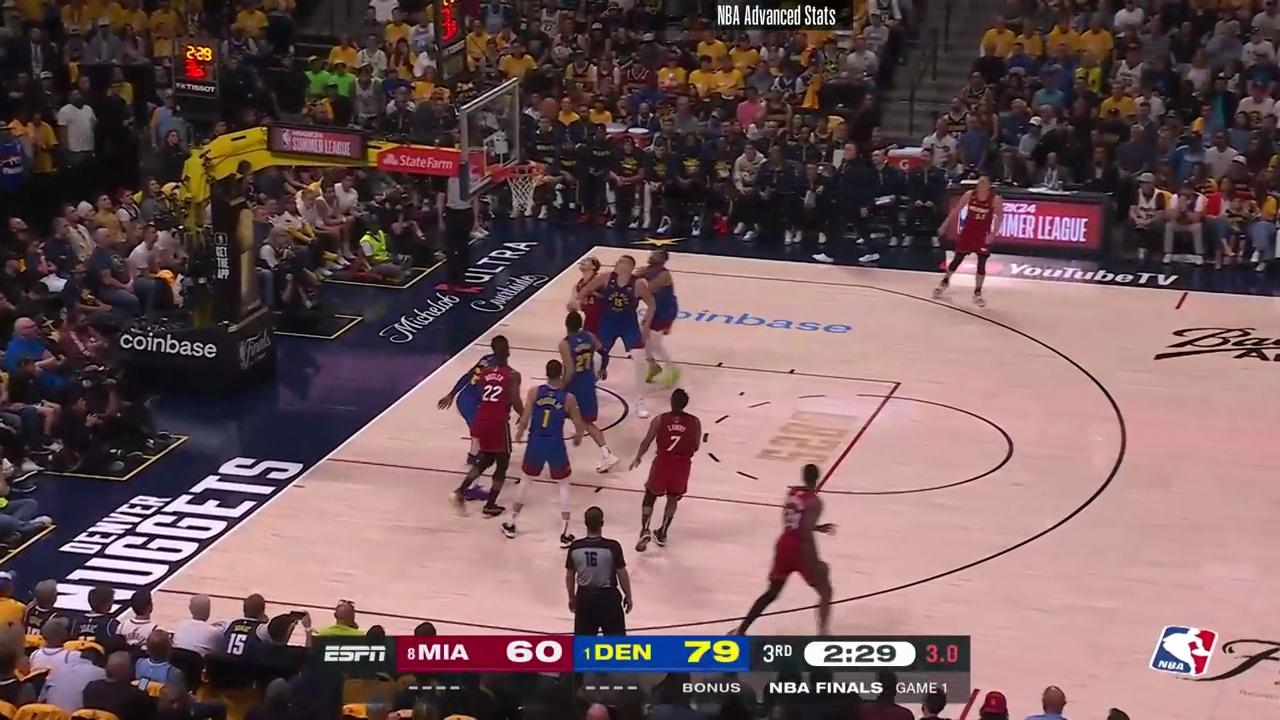Backboard: (466, 83, 524, 196)
Ball: (540, 97, 558, 117)
Basket: (498, 161, 545, 213)
Person: (748, 462, 846, 638), (505, 357, 588, 548), (630, 388, 712, 555), (446, 343, 523, 520), (583, 253, 655, 423), (552, 309, 619, 476), (936, 175, 1004, 304), (623, 247, 685, 379), (561, 252, 611, 336)
Referee: (559, 505, 639, 641)
Shot Clock: (166, 41, 221, 110), (433, 0, 465, 77)
